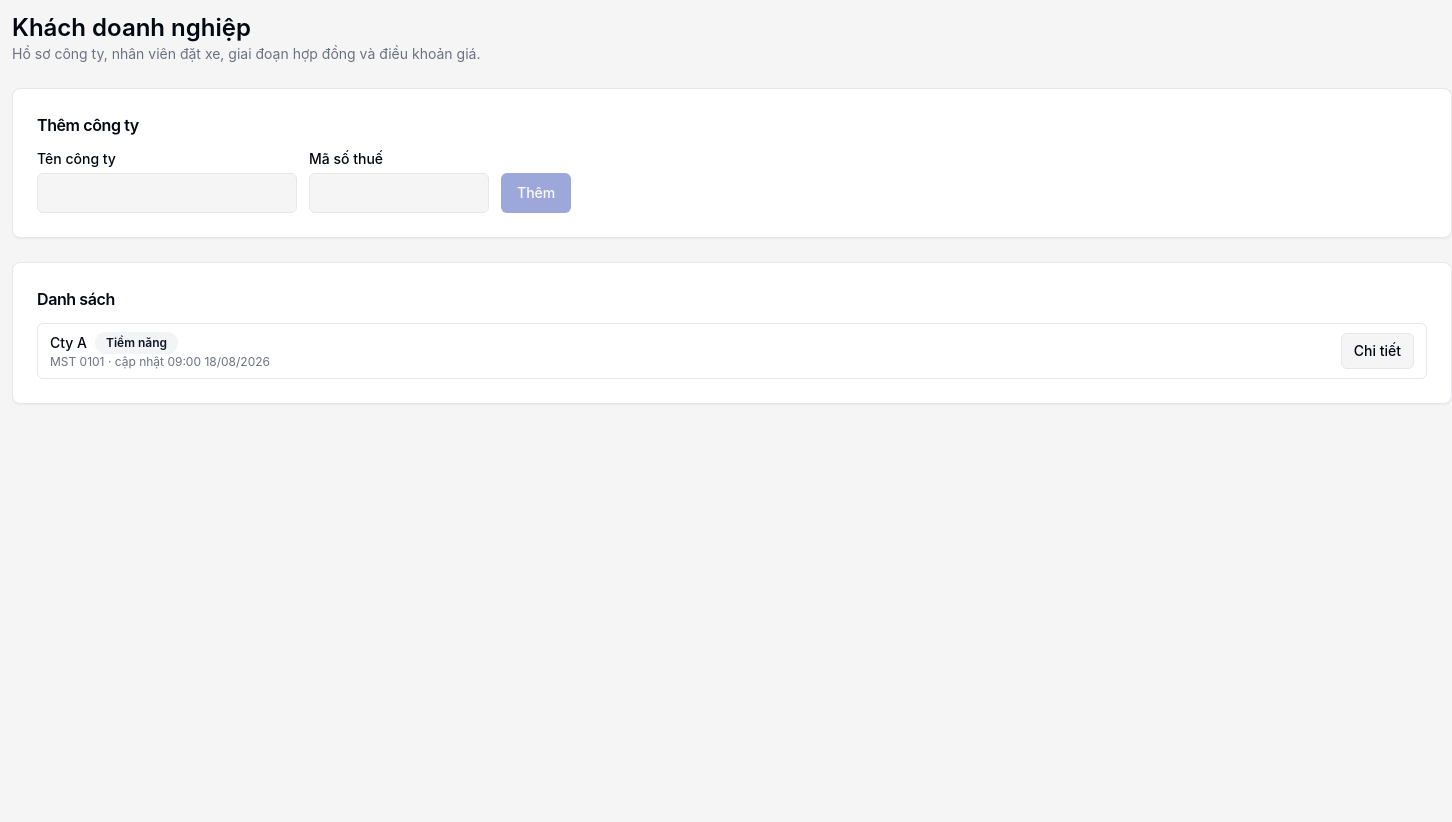
Test: /crm-accounts — điều khoản giá không được trông như ô rỗng › in chiết khấu hiện hành thành CHỮ, không chỉ để ở placeholder
Click the button "Chi tiết ".
click(1377, 351)  # box x1=1341 y1=333 x2=1414 y2=369
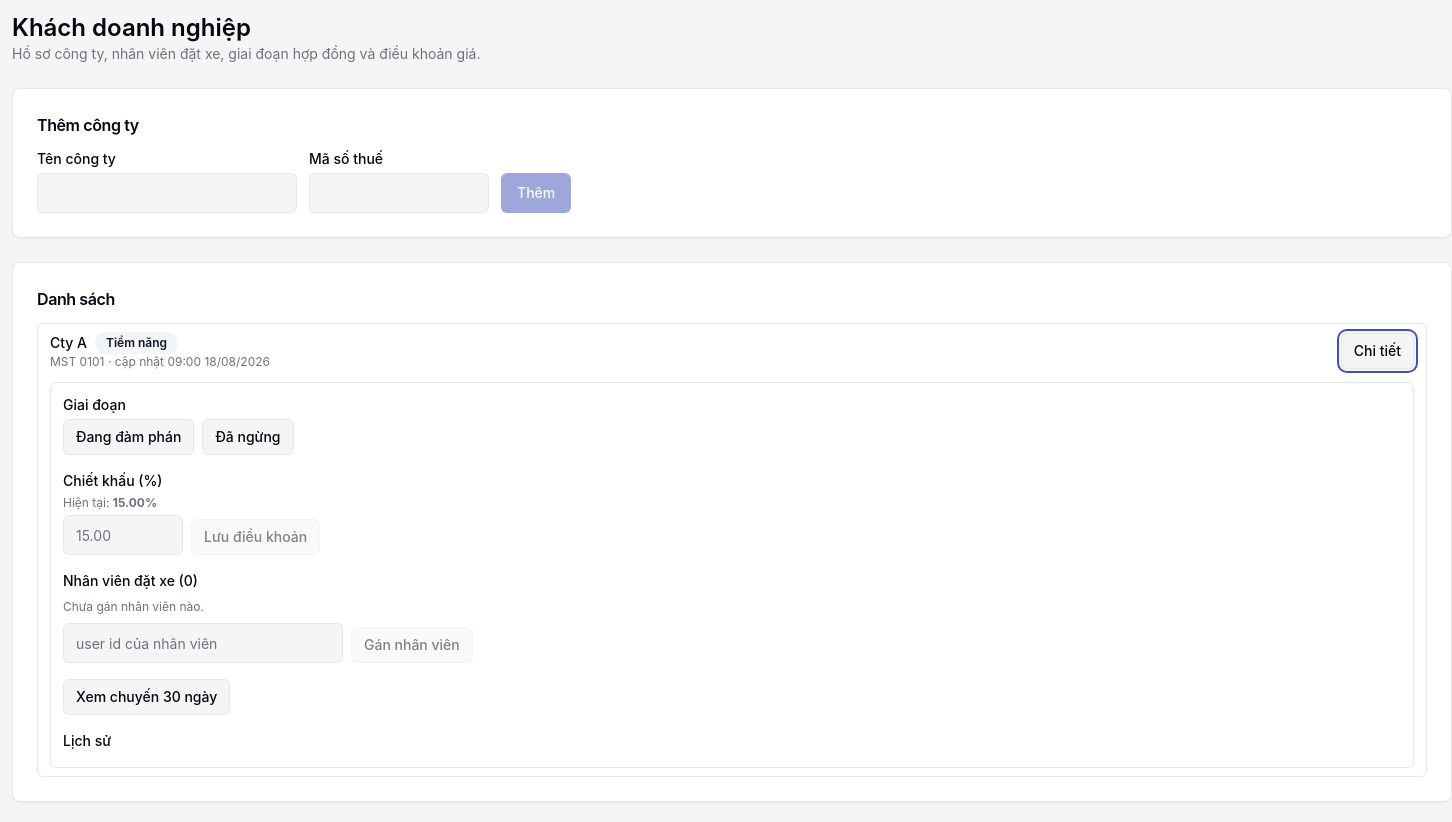
expect the element with test id "crm-account-discount-now" shows "15.00%": met, box x1=113 y1=495 x2=157 y2=510
